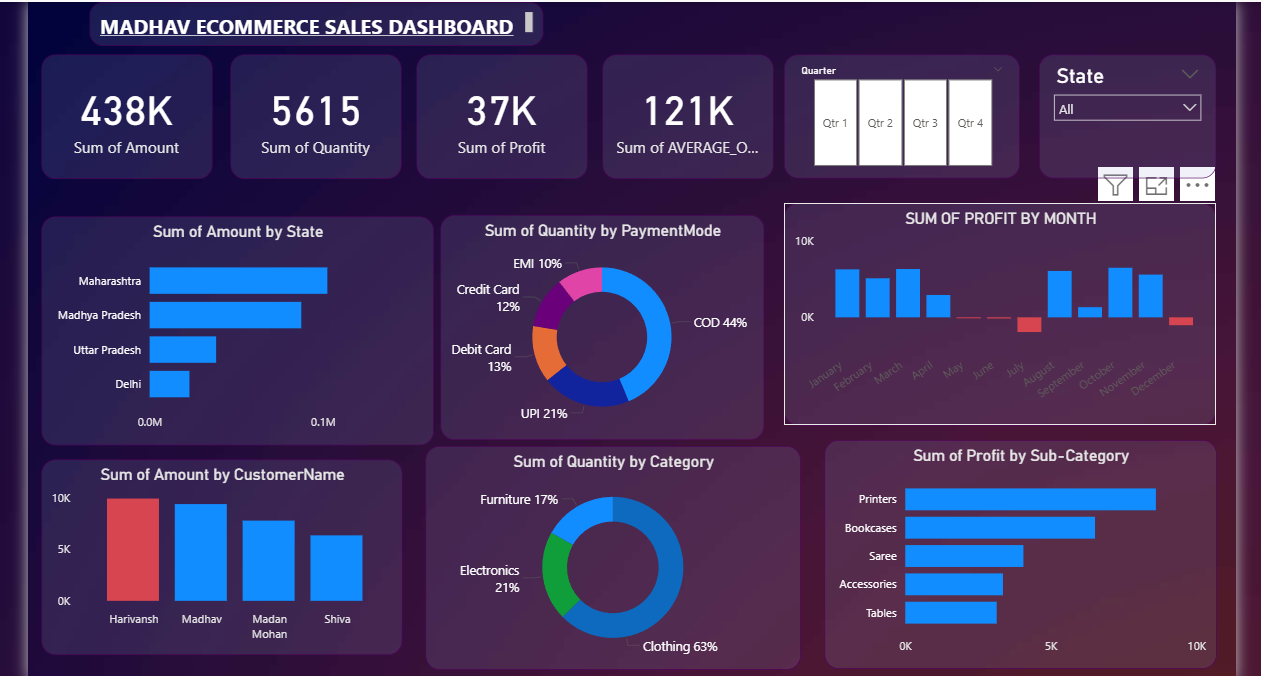

The page's visual inventory and layout, read from the dashboard file:
{"tool":"powerbi","page":{"name":"DASHBOARD","canvas":[1280,720],"ordinal":0},"visuals":[{"type":"textbox","box":[64.5,0,481.6,46.7],"z":0},{"type":"columnChart","title":"SUM OF PROFIT BY MONTH","fields":{"Category":["Orders.Order Date.Variation.Date Hierarchy.Month"],"Y":["Details (1).Profit"]},"box":[801.4,212.7,458.3,236],"z":1000},{"type":"barChart","fields":{"Category":["Details (1).Sub-Category"],"Y":["Details (1).Profit"]},"box":[843.9,465.2,415.8,242.9],"z":2000},{"type":"donutChart","fields":{"Category":["Details (1).PaymentMode"],"Y":["Details (1).Quantity"]},"box":[437.7,226.4,343.1,238.8],"z":3000},{"type":"donutChart","fields":{"Category":["Details (1).Category"],"Y":["Details (1).Quantity"]},"box":[421.3,470.7,397.9,237.4],"z":4000},{"type":"card","fields":{"Values":["Details (1).Amount"]},"box":[13.7,56.3,181.1,131.7],"z":5000},{"type":"card","fields":{"Values":["Details (1).Quantity"]},"box":[215.4,56.3,181.1,131.7],"z":6000},{"type":"card","fields":{"Values":["Details (1).Profit"]},"box":[411.7,56.3,181.1,131.7],"z":7000},{"type":"card","fields":{"Values":["Details (1).AVERAGE_ORDER_VALUE"]},"box":[609.3,56.3,181.1,131.7],"z":8000},{"type":"barChart","fields":{"Category":["Orders.State"],"Y":["Details (1).Amount"]},"box":[13.7,227.8,415.8,242.9],"z":9000},{"type":"columnChart","fields":{"Category":["Orders.CustomerName"],"Y":["Details (1).Amount"]},"box":[13.7,485.8,382.8,207.2],"z":10000},{"type":"slicer","fields":{"Values":["Orders.Order Date.Variation.Date Hierarchy.Quarter"]},"box":[801.2,56.4,250.3,131.3],"z":10001},{"type":"slicer","fields":{"Values":["Orders.State"]},"box":[1072.4,56.4,187.7,131.3],"z":10002}]}

Visuals, with their boxes on the page's 1280x720 design canvas (x1, y1, x2, y2). These are canvas units, not pixel positions in the 1261x676 screenshot, which may show the page scaled, cropped or inside an application window:
textbox: 64, 0, 546, 47
"SUM OF PROFIT BY MONTH" columnChart: 801, 213, 1260, 449
barChart - Details (1).Sub-Category x Details (1).Profit: 844, 465, 1260, 708
donutChart - Details (1).PaymentMode x Details (1).Quantity: 438, 226, 781, 465
donutChart - Details (1).Category x Details (1).Quantity: 421, 471, 819, 708
card - Details (1).Amount: 14, 56, 195, 188
card - Details (1).Quantity: 215, 56, 396, 188
card - Details (1).Profit: 412, 56, 593, 188
card - Details (1).AVERAGE_ORDER_VALUE: 609, 56, 790, 188
barChart - Orders.State x Details (1).Amount: 14, 228, 430, 471
columnChart - Orders.CustomerName x Details (1).Amount: 14, 486, 396, 693
slicer - Orders.Order Date.Variation.Date Hierarchy.Quarter: 801, 56, 1052, 188
slicer - Orders.State: 1072, 56, 1260, 188
